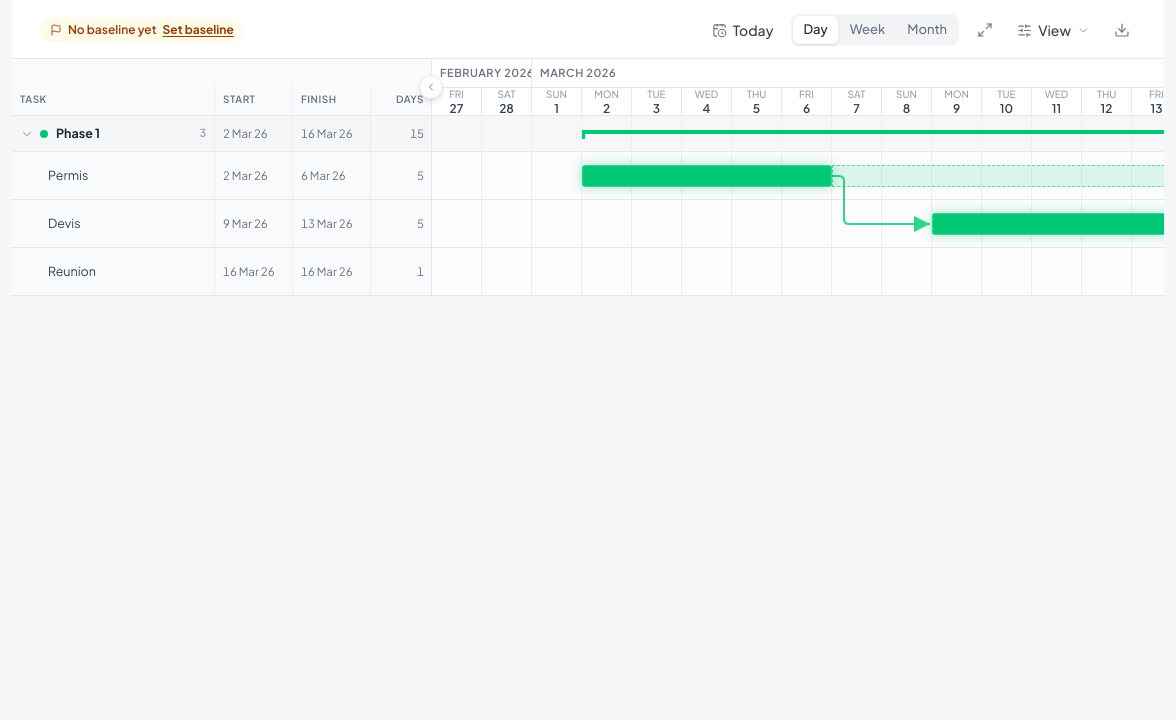
Scenario: GanttChart baselines › offers to capture a baseline when there is none
Click the button "View".
click(1054, 30)  # box 1007,14 -> 1100,46
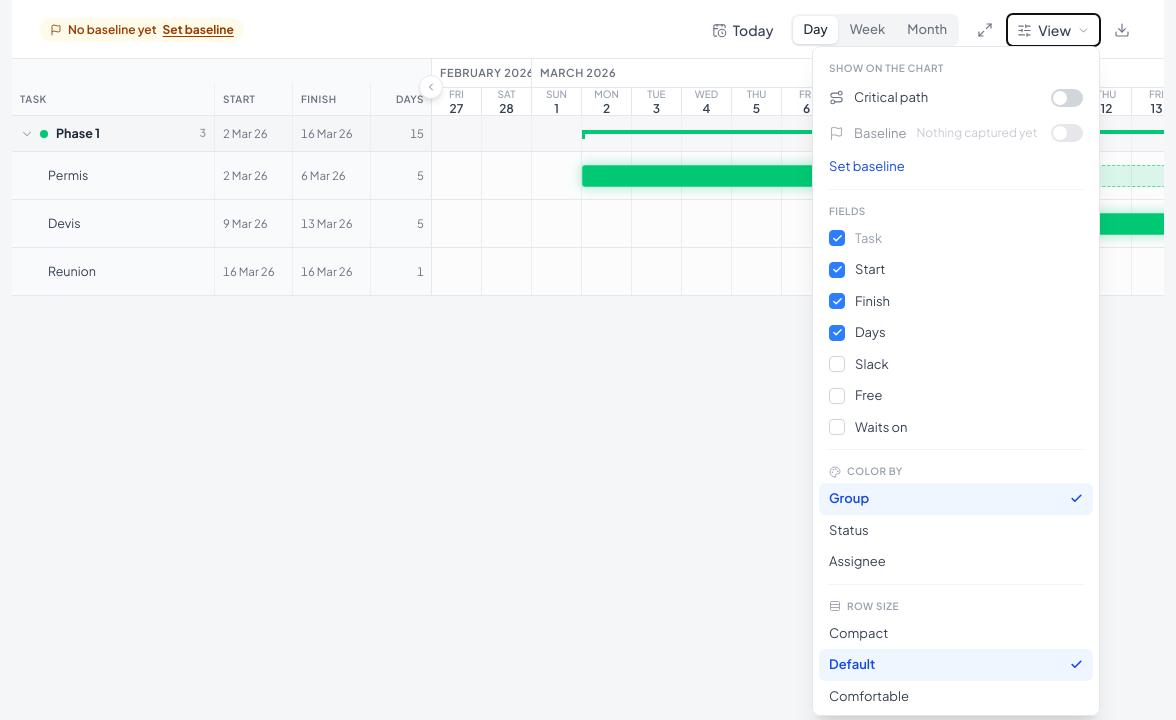
Check: the button "Set baseline" is shown, box 819,151 -> 1093,182
